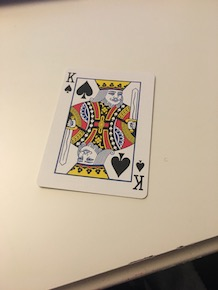KingOfSpades: (34, 66, 162, 202)
